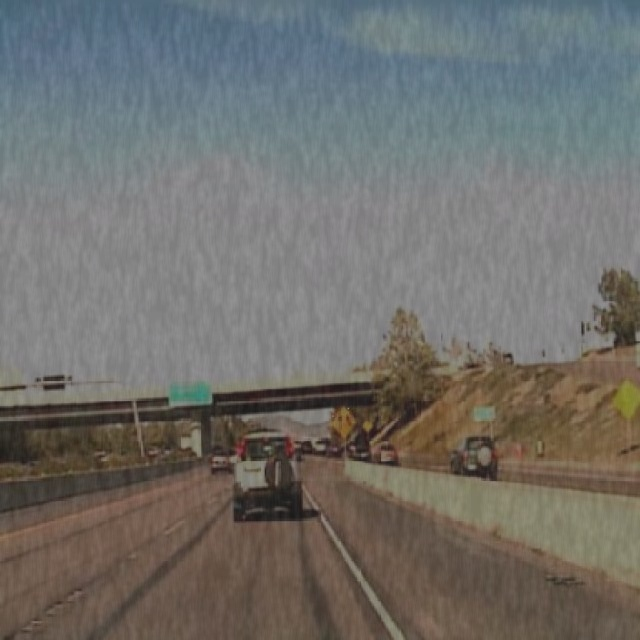addedLane: (329, 405, 356, 437)
